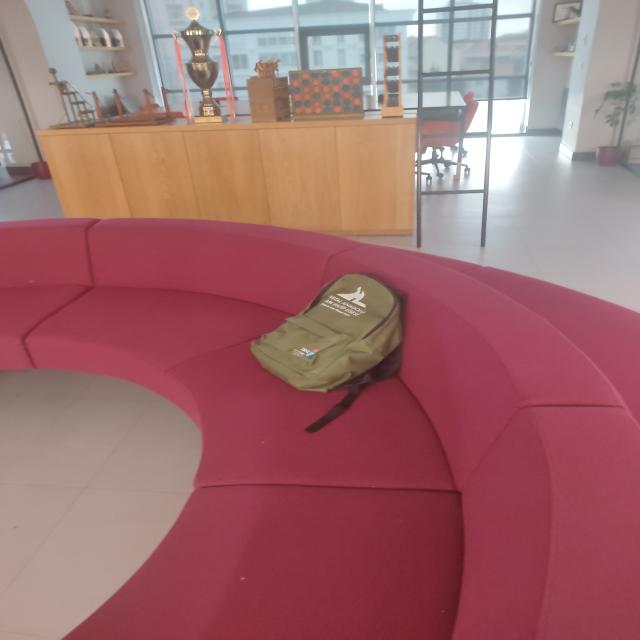bag: (251, 278, 424, 388)
